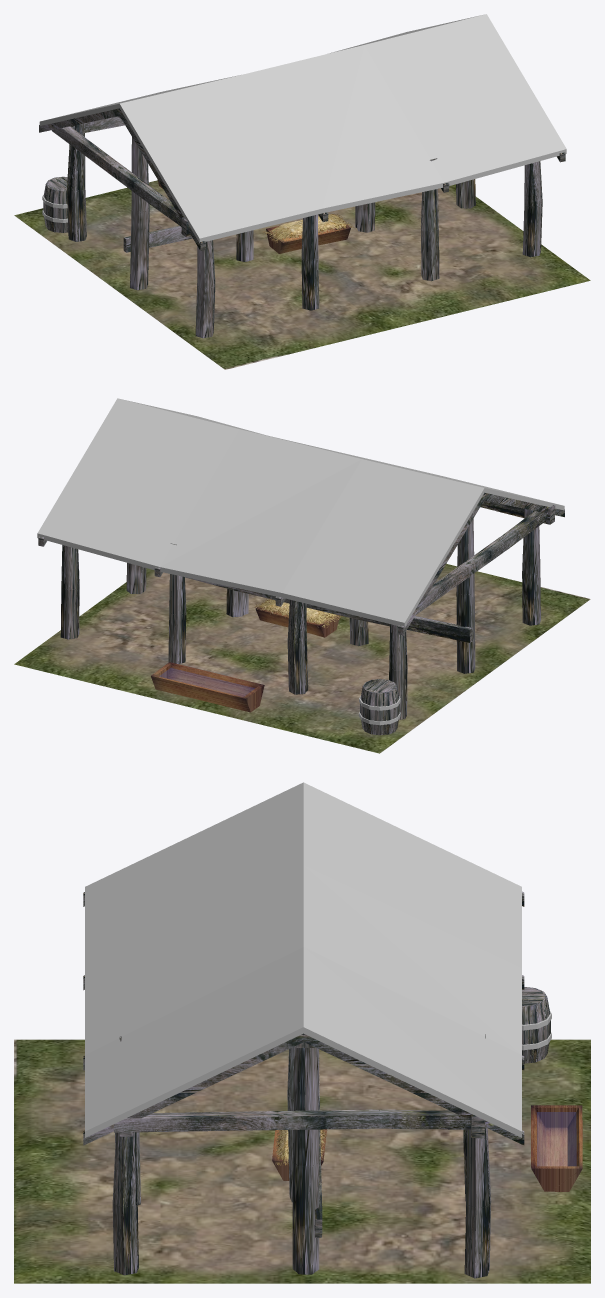
The model's file is CattleStall.obj.
3 renders of one model, top to bottom at view 1: azimuth 30°, elevation 25°; view 2: azimuth 150°, elevation 25°; view 3: azimuth 270°, elevation 25°, orthographic. The views are drawn at different scales.
Parts seen in each view (by area): view 1: roof, mudgrass, fadewood, floor, straw; view 2: roof, mudgrass, fadewood, floor, water, straw; view 3: roof, mudgrass, fadewood, floor, water.
Boxes of the visible parts, box(x1,y1,x2,y2) form: roof: box(39, 14, 566, 243); mudgrass: box(14, 180, 590, 369); fadewood: box(39, 108, 565, 338); floor: box(158, 180, 350, 253); straw: box(262, 214, 353, 243); roof: box(37, 398, 564, 725); mudgrass: box(14, 564, 590, 753); fadewood: box(38, 492, 564, 735); floor: box(151, 599, 339, 712); water: box(160, 668, 254, 696); straw: box(253, 598, 343, 627); roof: box(85, 782, 551, 1137); mudgrass: box(14, 1039, 590, 1283); fadewood: box(83, 891, 550, 1278); floor: box(272, 1105, 582, 1191); water: box(537, 1112, 575, 1165).
Bounding box in the file's own units: 76.66 × 37.59 × 76.
